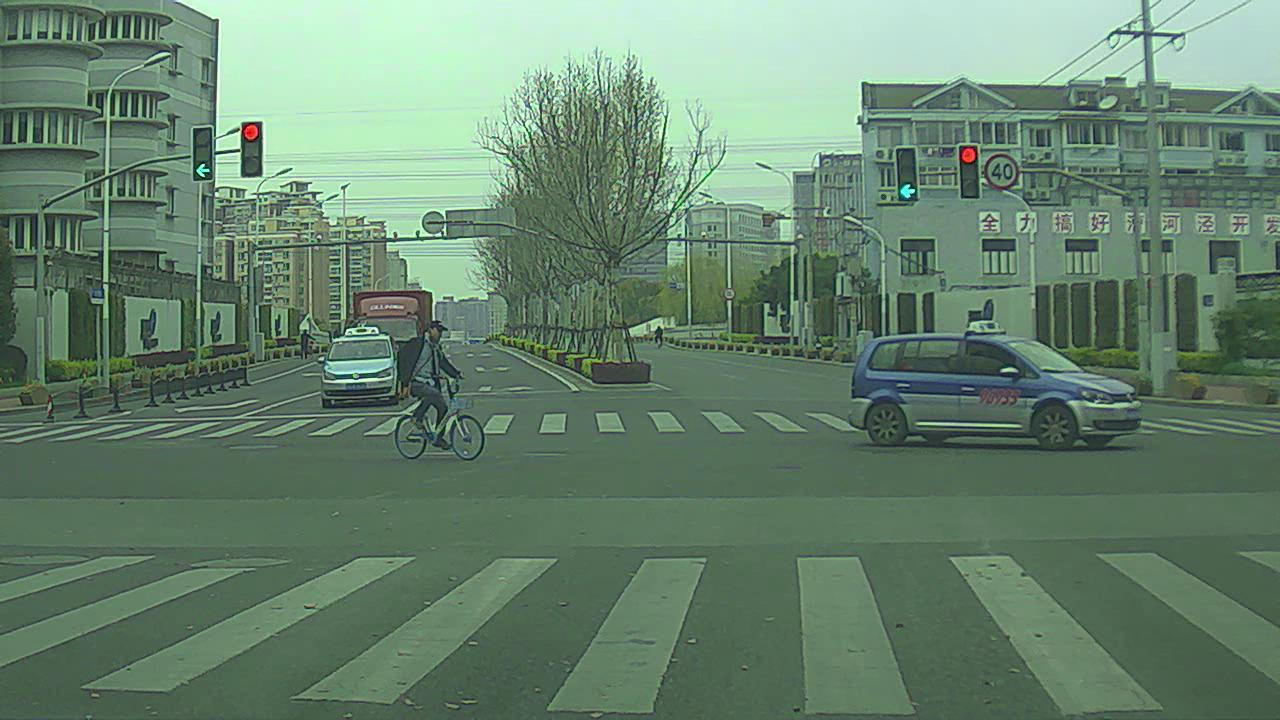traffic_light: (188, 127, 216, 188), (236, 119, 263, 178), (958, 143, 982, 201), (894, 145, 917, 202)
